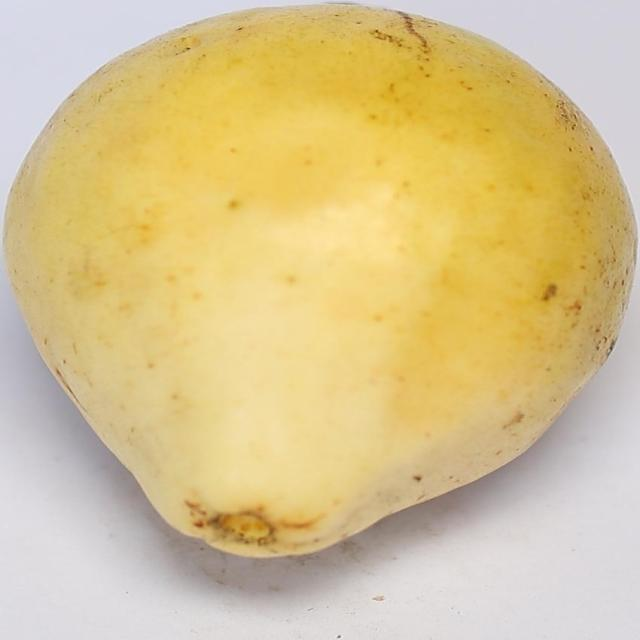Good_Guava: (0, 3, 639, 562)
